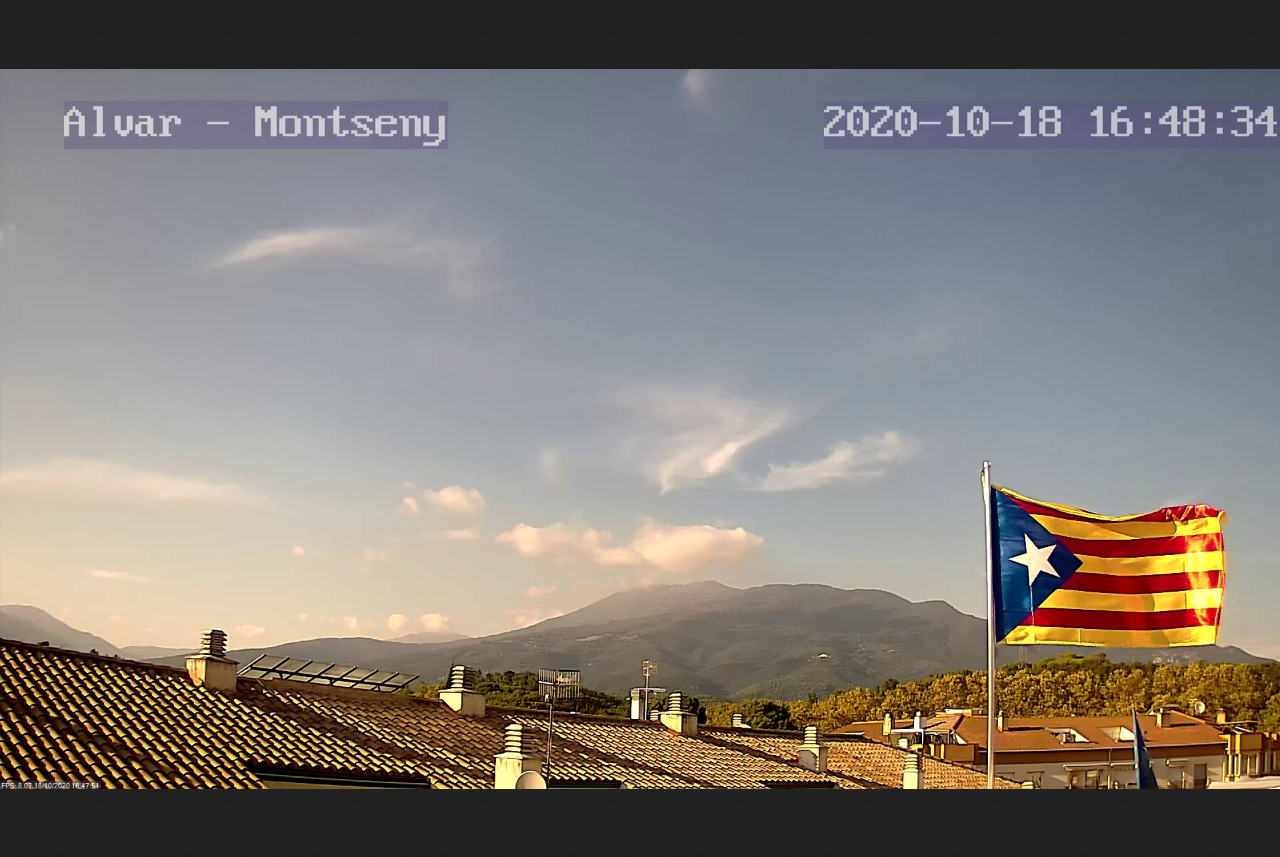yes: (964, 454, 1248, 660)
